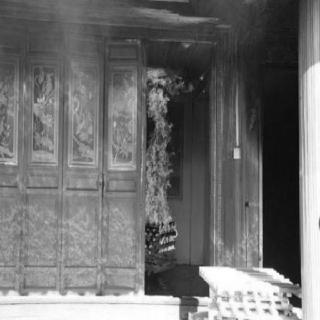Fire: (141, 56, 193, 258)
